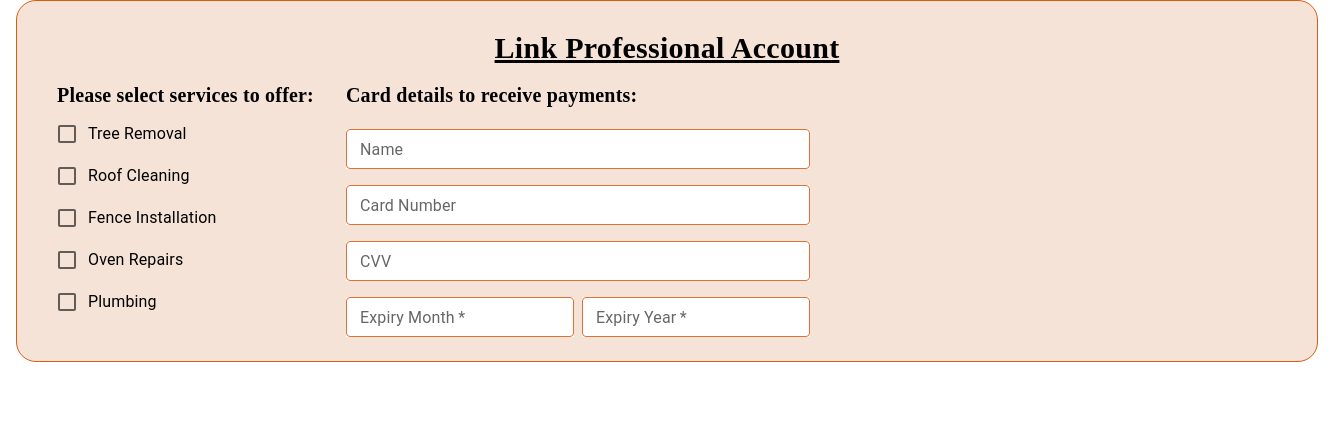
Test: <EditProfileProfessionalDetails> › should display an error if the user type is client and they have not provided all the required details
The image size is (1335, 423).
Type "Name" into the field labelled "Name" at (578, 149), box [346,129,810,169]
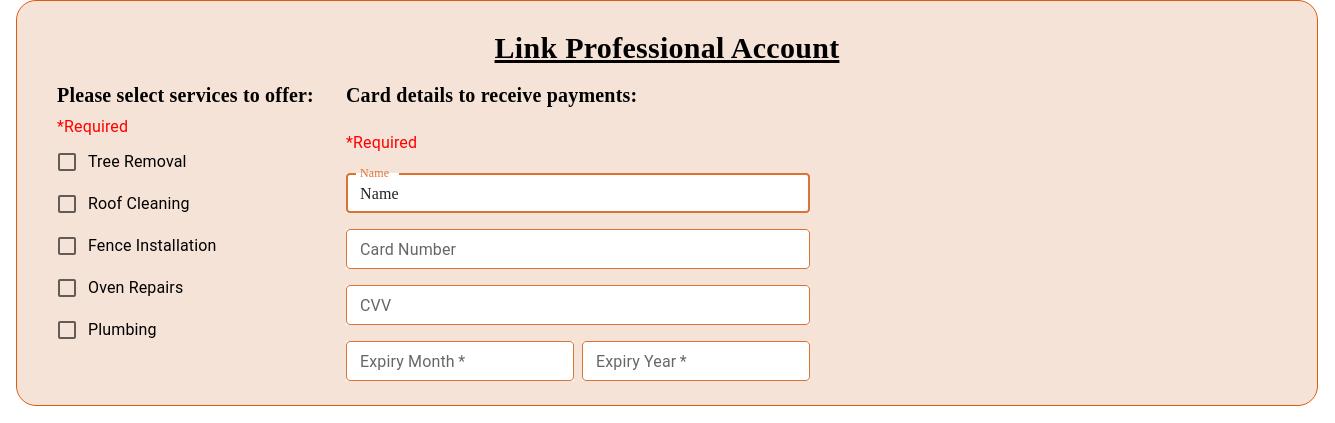
Now the number of headings "*Required" is 2, box [57,117,128,136]; [346,133,417,152]
